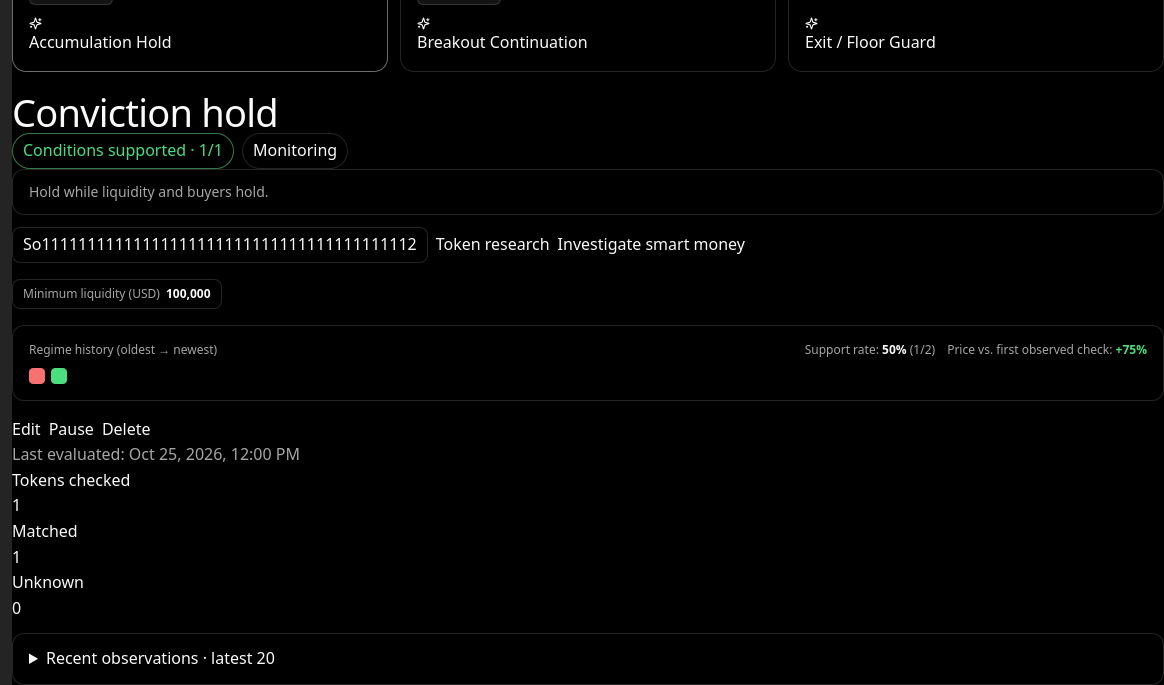
Test: renders thesis regime drift strip, baseline price delta, and briefing triage filters
(page scrolled)
Expected: the text "Support rate: 50% (1/2)" is shown, [805, 342, 935, 358]
Expected: the text "+75%" is shown, [1116, 341, 1147, 358]
Click the heading "Recent observations · latest 20". click: coordinates (160, 658)
box: [46, 647, 275, 669]
(page scrolled)
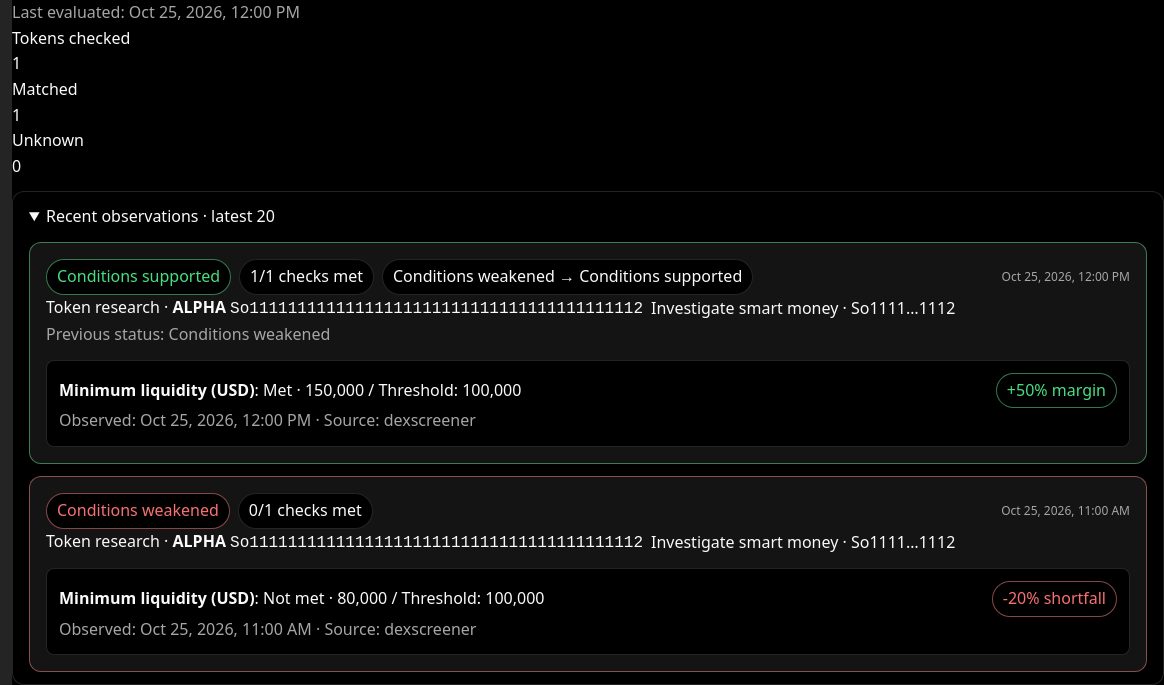
Expected: the text "+50% margin" is shown, [996, 373, 1117, 408]
Expected: the text "-20% shortfall" is shown, [992, 581, 1117, 617]
